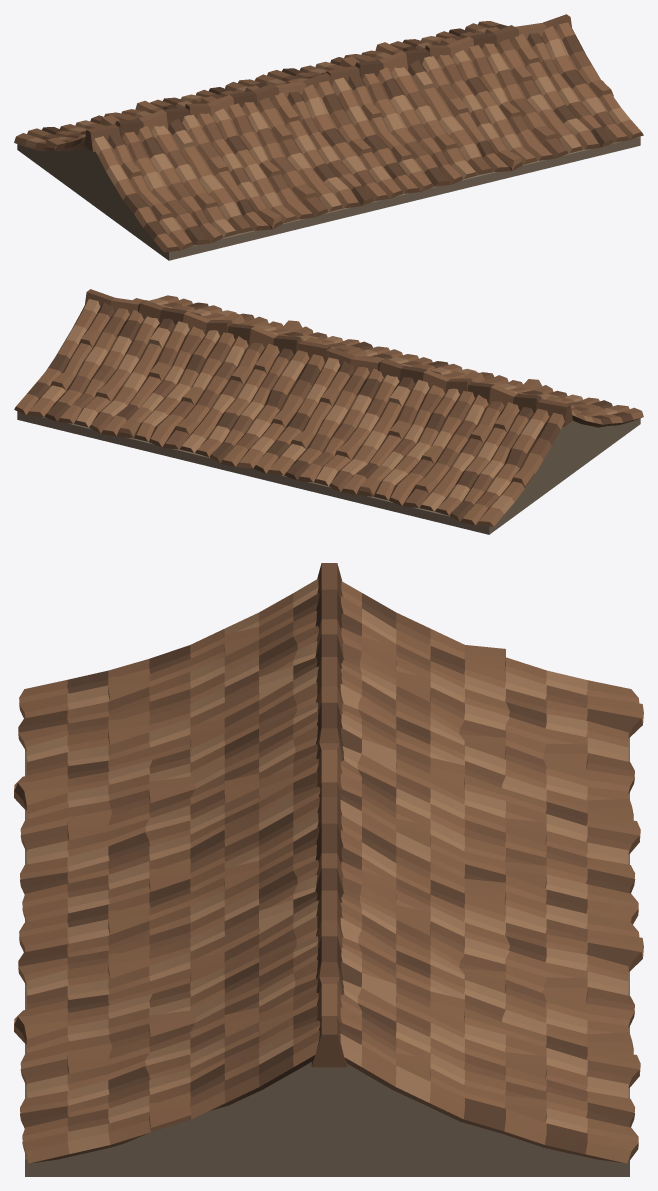
File: SM_Bld_Cuba_Roof_02.glb
3 views of the same model, one above another, from view 1: azimuth 30°, elevation 25°; view 2: azimuth 150°, elevation 25°; view 3: azimuth 270°, elevation 25° (orthographic). The views are drawn at different scales.
Visible parts, largest first — view 1: SM_Bld_Cuba_Roof_02; view 2: SM_Bld_Cuba_Roof_02; view 3: SM_Bld_Cuba_Roof_02.
Part boxes in pixels (x1,y1,x2,y2): SM_Bld_Cuba_Roof_02: (14, 14, 643, 260); SM_Bld_Cuba_Roof_02: (14, 289, 643, 534); SM_Bld_Cuba_Roof_02: (14, 563, 643, 1176).
Bounding box in the file's own units: 0.0767 × 0.0117 × 0.0436.
